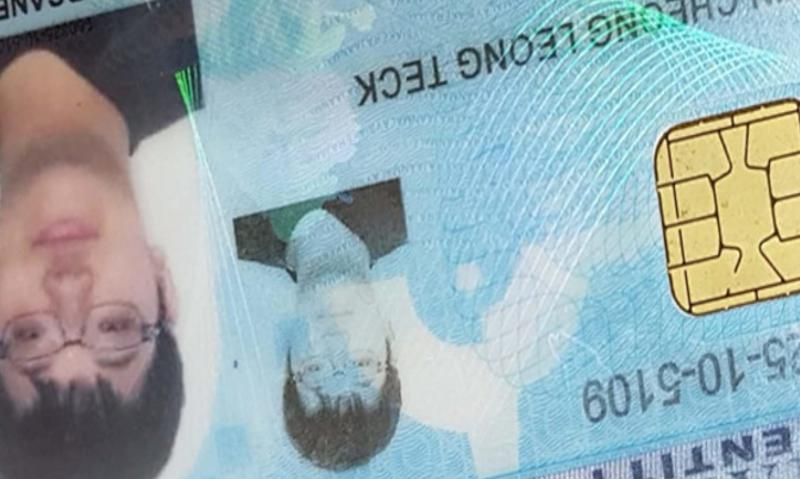hologram: (462, 75, 651, 339)
